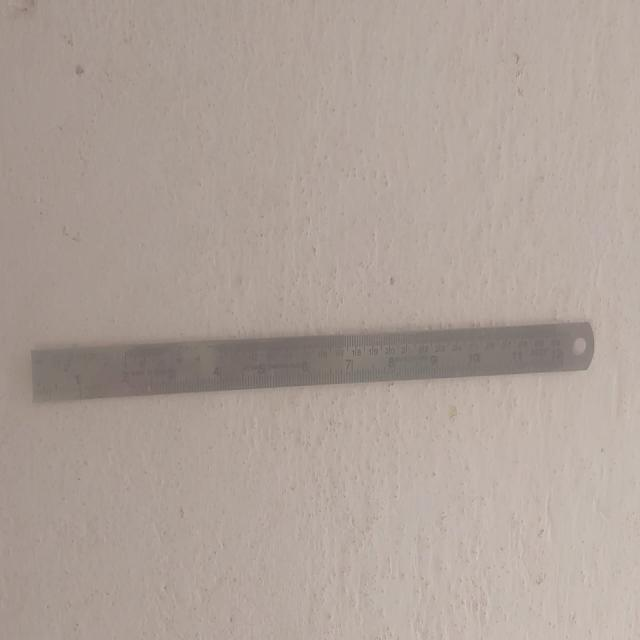scale: (30, 320, 596, 398)
